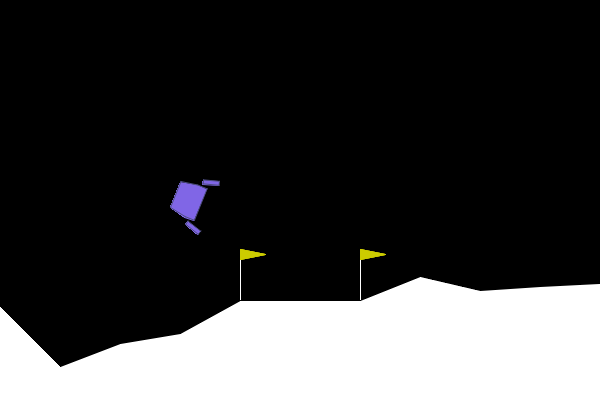lander: (162, 166, 222, 237)
